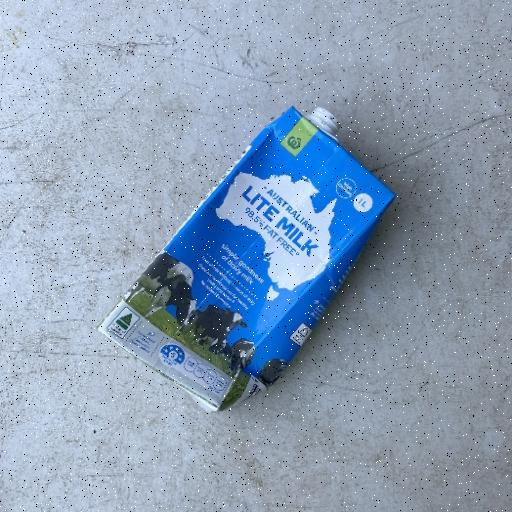Cardboard: (94, 104, 396, 414)
